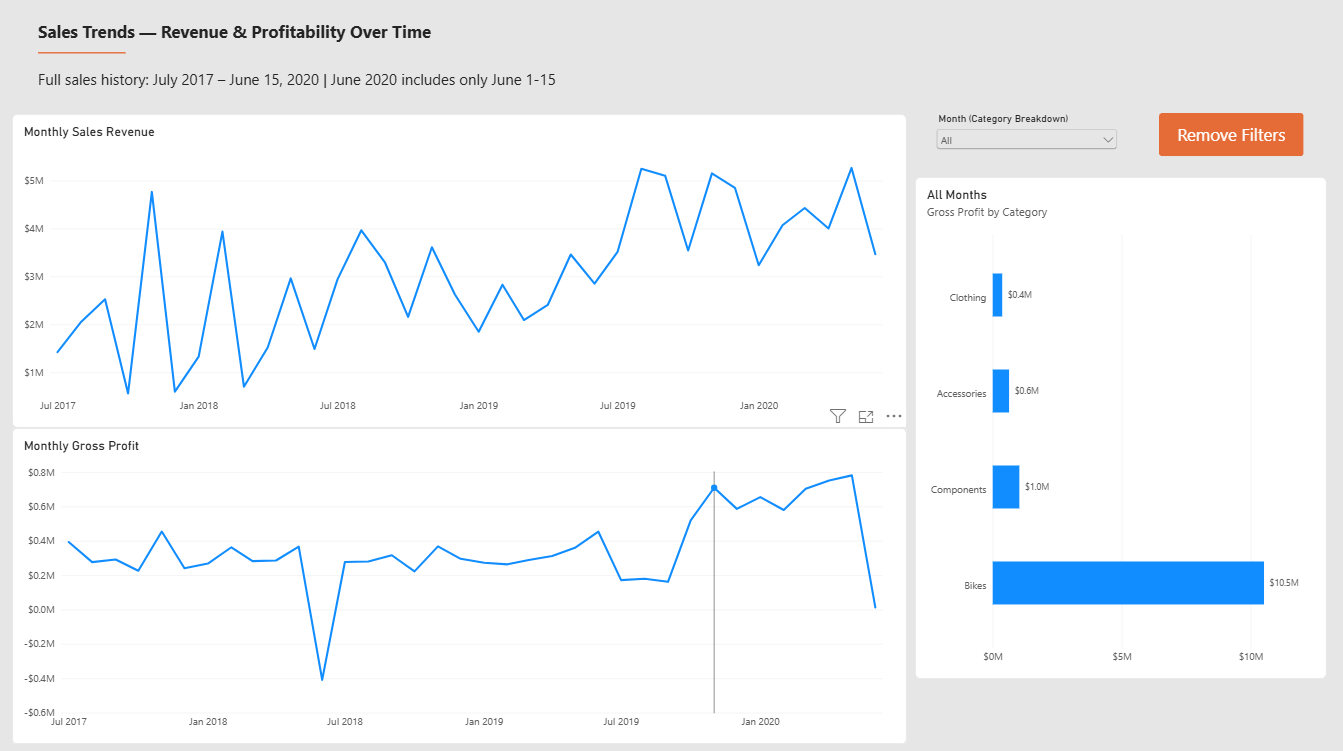

This screenshot's page, from the dashboard's own definition file:
{"tool":"powerbi","page":{"name":"Sales Trends","canvas":[1920,1080],"ordinal":4},"visuals":[{"type":"lineChart","title":"Monthly Sales Revenue","fields":{"Category":["Date.Month"],"Y":["Sales.Total Sales"]},"box":[18.3,166.7,1278.3,448.3],"z":0},{"type":"lineChart","title":"Monthly Gross Profit","fields":{"Category":["Date.Month"],"Y":["Sales.Gross Profit"]},"box":[18.3,615,1278.3,451.7],"z":1000},{"type":"clusteredBarChart","fields":{"Category":["Product.Category"],"Y":["Sales.Gross Profit"]},"box":[1308.3,256.7,588.3,716.7],"z":2000},{"type":"slicer","fields":{"Values":["Date.Month"]},"box":[1333.9,166.1,268.3,88.3],"z":3000},{"type":"actionButton","box":[1657.6,166.1,206.7,61.7],"z":4000},{"type":"textbox","box":[55.9,32.2,952.5,118.6],"z":5000},{"type":"shape","box":[55.9,54.2,125.4,50.8],"z":6000}]}

Visuals, with their boxes in screenshot pixels (x1, y1, x2, y2), scaled from the page's 1920x1080 canvas onto the 1343x751 screenshot:
"Monthly Sales Revenue" lineChart: x1=13 y1=116 x2=907 y2=428
"Monthly Gross Profit" lineChart: x1=13 y1=428 x2=907 y2=742
clusteredBarChart - Product.Category x Sales.Gross Profit: x1=915 y1=179 x2=1327 y2=677
slicer - Date.Month: x1=933 y1=116 x2=1121 y2=177
actionButton: x1=1159 y1=116 x2=1304 y2=158
textbox: x1=39 y1=22 x2=705 y2=105
shape: x1=39 y1=38 x2=127 y2=73
